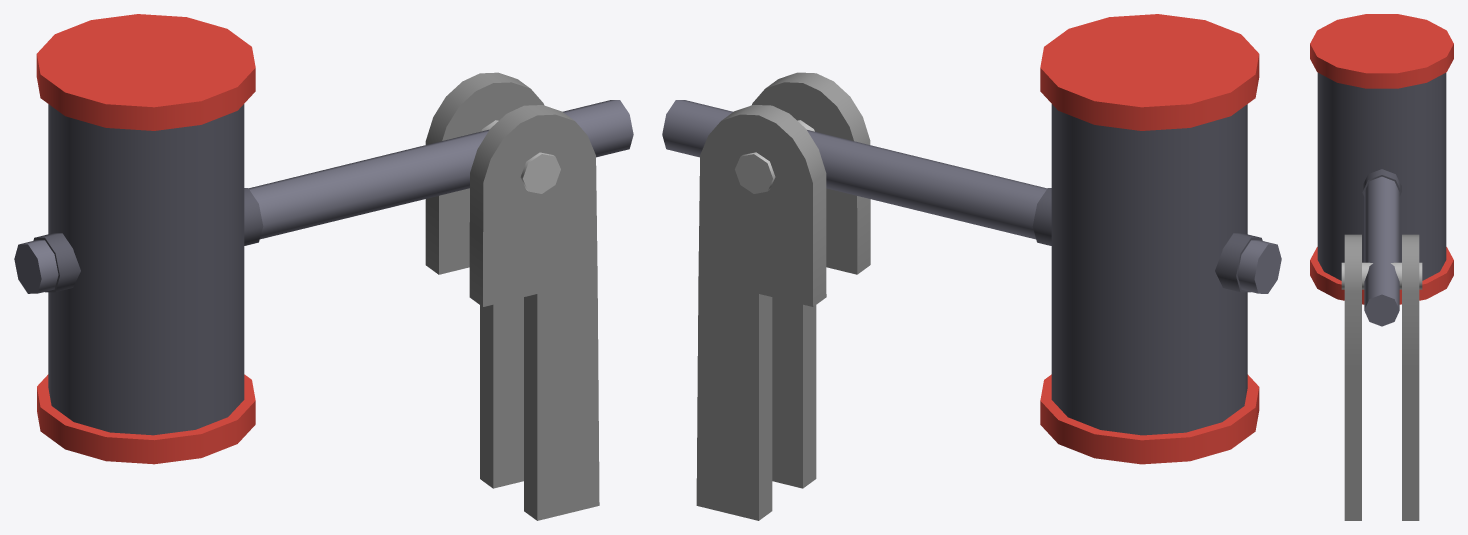
Rendered from obstacle-hammer.fbx.
The picture shows the model from 3 angles, left to right: view 1: azimuth 30°, elevation 25°; view 2: azimuth 150°, elevation 25°; view 3: azimuth 270°, elevation 25°; orthographic projection. The views are drawn at different scales.
Parts seen in each view (by area): view 1: obstacle-hammer1, obstacle-hammer; view 2: obstacle-hammer1, obstacle-hammer; view 3: obstacle-hammer1, obstacle-hammer.
Boxes of the visible parts, left/top/right/bottom form: obstacle-hammer1: left=14, top=14, right=633, bottom=464; obstacle-hammer: left=425, top=72, right=599, bottom=520; obstacle-hammer1: left=662, top=14, right=1281, bottom=464; obstacle-hammer: left=696, top=72, right=870, bottom=520; obstacle-hammer1: left=1310, top=14, right=1453, bottom=326; obstacle-hammer: left=1341, top=234, right=1422, bottom=520.
Bounding box in the file's own units: 1.27 × 1.08 × 0.4118.
